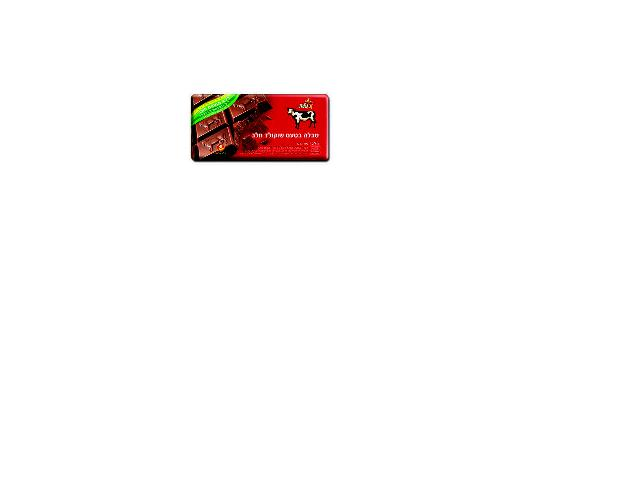chocolate: (190, 91, 333, 167)
